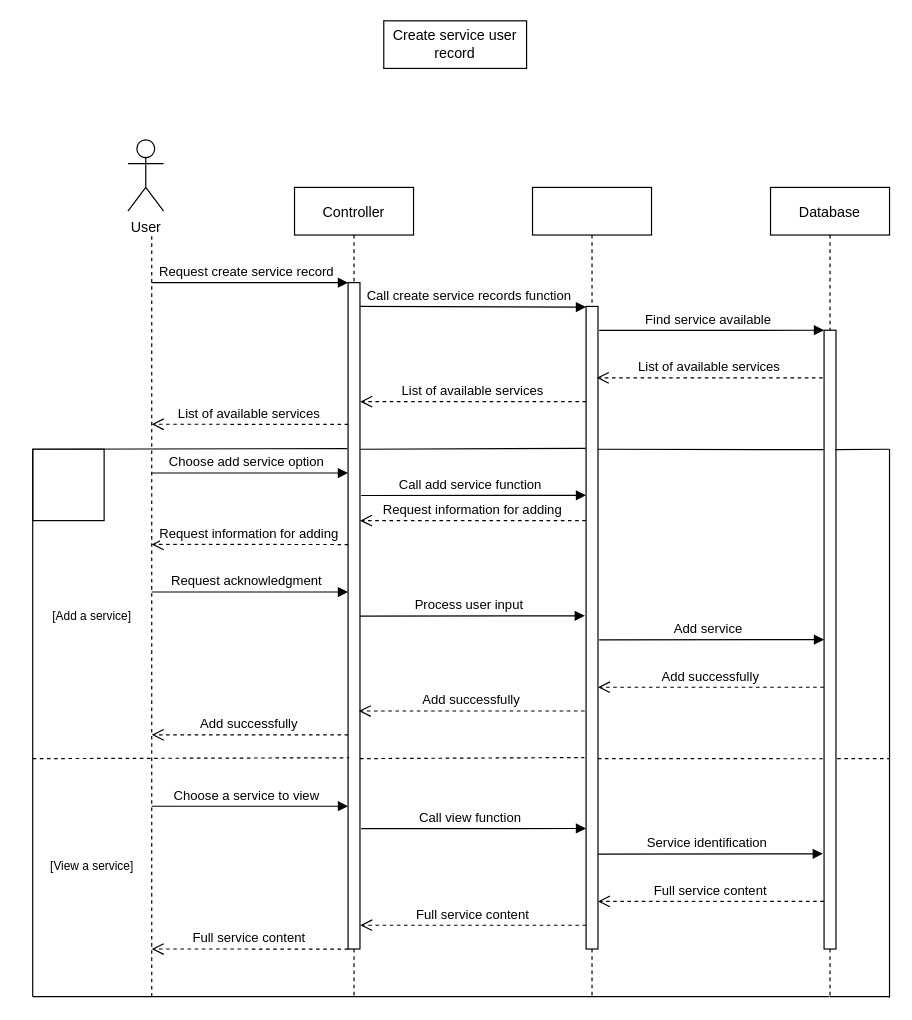
This 912x1020 diagram has some shape labels left out. Here are the shapes that lost their labels. From the top down, the box of each, then its label:
(32, 448, 104, 521): Alternative
(531, 186, 652, 997): Service
